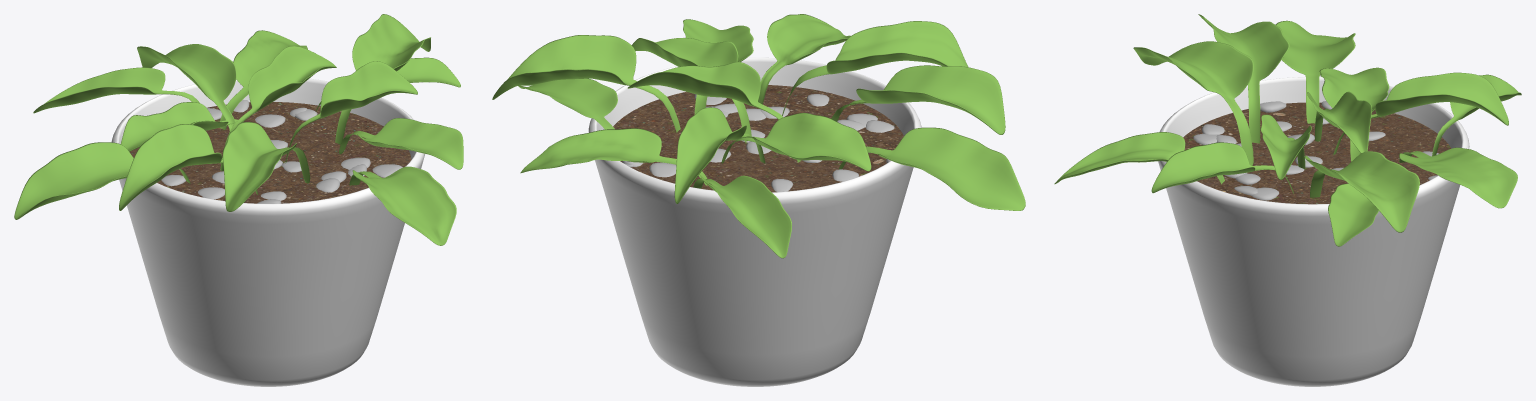
3 renders of one model, left to right at view 1: azimuth 30°, elevation 25°; view 2: azimuth 150°, elevation 25°; view 3: azimuth 270°, elevation 25°, orthographic. The views are drawn at different scales.
Visible parts, largest first — view 1: plant asset_Material.004_0, plant asset_Material.001_0, Cylinder_Material.002_0.001, plant asset_Material.003_0; view 2: plant asset_Material.004_0, plant asset_Material.001_0, Cylinder_Material.002_0.001, plant asset_Material.003_0; view 3: plant asset_Material.004_0, plant asset_Material.001_0, Cylinder_Material.002_0.001, plant asset_Material.003_0.
Boxes of the visible parts, x1,y1,x2,y2 form: plant asset_Material.004_0: [111, 78, 424, 386]; plant asset_Material.001_0: [14, 14, 463, 245]; Cylinder_Material.002_0.001: [129, 102, 411, 203]; plant asset_Material.003_0: [161, 99, 402, 203]; plant asset_Material.004_0: [588, 57, 921, 386]; plant asset_Material.001_0: [492, 14, 1025, 258]; Cylinder_Material.002_0.001: [613, 85, 903, 192]; plant asset_Material.003_0: [622, 94, 894, 191]; plant asset_Material.004_0: [1158, 77, 1469, 386]; plant asset_Material.001_0: [1054, 14, 1521, 246]; Cylinder_Material.002_0.001: [1183, 102, 1450, 204]; plant asset_Material.003_0: [1193, 101, 1438, 200].
Size of the model in its own units: 0.7847 by 0.4466 by 0.6933.
4 materials, 1 textured.
